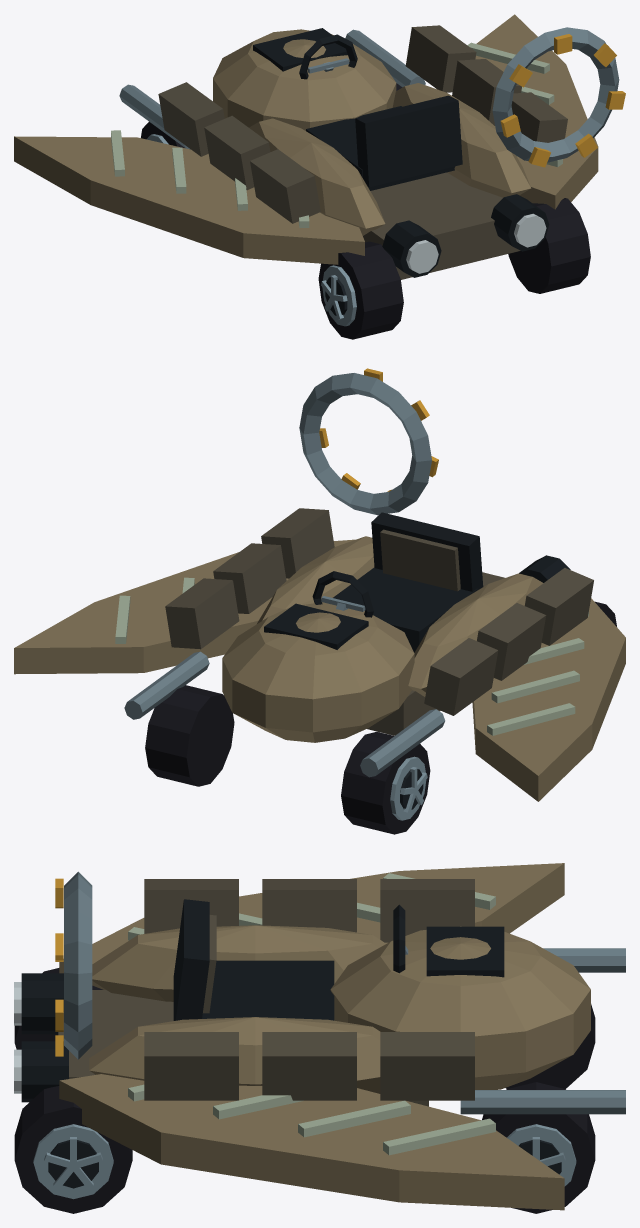
Rendered from kart.glb.
3 views of the same model, one above another, from view 1: azimuth 30°, elevation 25°; view 2: azimuth 150°, elevation 25°; view 3: azimuth 270°, elevation 25° (orthographic). The views are drawn at different scales.
Parts seen in each view (by area): view 1: identity-starfighter-death-glider-crescent-wings-and-central, identity-starfighter-motif-armor, identity-starfighter-driver-cockpit, identity-starfighter-motif-gate-ring, wheel-rear-left, wheel-rear-right, wheel-front-left; view 2: identity-starfighter-death-glider-crescent-wings-and-central, identity-starfighter-motif-armor, identity-starfighter-driver-cockpit, identity-starfighter-motif-gate-ring, wheel-front-right, wheel-front-left; view 3: identity-starfighter-death-glider-crescent-wings-and-central, identity-starfighter-motif-armor, identity-starfighter-driver-cockpit, wheel-rear-right, identity-starfighter-motif-gate-ring, wheel-front-right, wheel-front-left, wheel-rear-left.
Boxes of the visible parts, left/top/right/bottom form: identity-starfighter-death-glider-crescent-wings-and-central: left=14, top=14, right=598, bottom=279; identity-starfighter-motif-armor: left=158, top=25, right=567, bottom=223; identity-starfighter-driver-cockpit: left=299, top=34, right=462, bottom=190; identity-starfighter-motif-gate-ring: left=492, top=27, right=625, bottom=167; wheel-rear-left: left=318, top=241, right=403, bottom=339; wheel-rear-right: left=508, top=198, right=590, bottom=293; wheel-front-left: left=141, top=122, right=190, bottom=149; identity-starfighter-death-glider-crescent-wings-and-central: left=14, top=536, right=625, bottom=801; identity-starfighter-motif-armor: left=165, top=508, right=593, bottom=715; identity-starfighter-driver-cockpit: left=312, top=512, right=483, bottom=652; identity-starfighter-motif-gate-ring: left=299, top=368, right=438, bottom=515; wheel-front-right: left=145, top=685, right=234, bottom=786; wheel-front-left: left=341, top=732, right=430, bottom=834; identity-starfighter-death-glider-crescent-wings-and-central: left=14, top=863, right=625, bottom=1210; identity-starfighter-motif-armor: left=144, top=879, right=474, bottom=1100; identity-starfighter-driver-cockpit: left=173, top=899, right=408, bottom=1020; wheel-rear-right: left=14, top=1086, right=132, bottom=1213; identity-starfighter-motif-gate-ring: left=55, top=871, right=92, bottom=1059; wheel-front-right: left=482, top=1082, right=595, bottom=1213; wheel-front-left: left=506, top=1004, right=595, bottom=1088; wheel-rear-left: left=14, top=968, right=102, bottom=1049.
Size of the model in its own units: 3.16 by 1.52 by 2.59.
